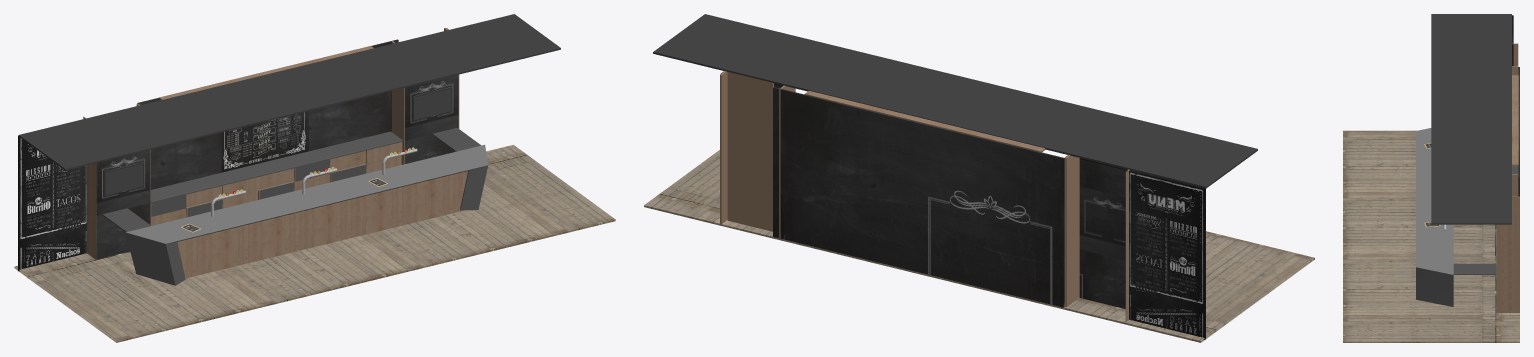
The picture shows the model from 3 angles, left to right: view 1: azimuth 30°, elevation 25°; view 2: azimuth 150°, elevation 25°; view 3: azimuth 270°, elevation 25°; orthographic projection. The views are drawn at different scales.
Visible parts, largest first — view 1: Cube.032, Cube.000, Cube.024, Cube.020, Cube.006, Cube.035, Cube.027, Cube.311, Cube.063, Cube.018, screen.002, screen.001 (+3 smaller); view 2: Cube.006, Cube.000, Cube.027, Cube.032, Cube.031, Cube.311, Cube.022, Cube.045, Cube.025, Cube.313; view 3: Cube.032, Cube.000, Cube.020, Cube.062, Cube.045, Cube.018, Cube.006, Cube.025.
Part boxes in pixels (bbox=[...]): Cube.032: bbox=[14, 145, 615, 342]; Cube.000: bbox=[18, 14, 560, 170]; Cube.024: bbox=[177, 171, 467, 278]; Cube.020: bbox=[125, 144, 488, 285]; Cube.006: bbox=[137, 39, 398, 201]; Cube.035: bbox=[151, 131, 402, 225]; Cube.027: bbox=[18, 135, 86, 271]; Cube.311: bbox=[96, 150, 150, 259]; Cube.063: bbox=[405, 74, 458, 163]; Cube.018: bbox=[102, 128, 481, 231]; screen.002: bbox=[412, 87, 452, 120]; screen.001: bbox=[104, 162, 143, 196]; Cube.006: bbox=[773, 87, 1064, 307]; Cube.000: bbox=[653, 14, 1257, 188]; Cube.027: bbox=[1127, 170, 1205, 339]; Cube.032: bbox=[644, 150, 1314, 342]; Cube.031: bbox=[727, 72, 773, 231]; Cube.311: bbox=[1079, 158, 1127, 308]; Cube.022: bbox=[1065, 155, 1079, 307]; Cube.045: bbox=[804, 90, 1045, 152]; Cube.025: bbox=[720, 71, 727, 225]; Cube.313: bbox=[1125, 169, 1129, 321]; Cube.032: bbox=[1343, 130, 1519, 342]; Cube.000: bbox=[1431, 14, 1511, 224]; Cube.020: bbox=[1416, 128, 1453, 306]; Cube.062: bbox=[1496, 197, 1518, 312]; Cube.045: bbox=[1512, 75, 1518, 166]; Cube.018: bbox=[1453, 263, 1496, 274]; Cube.006: bbox=[1518, 67, 1519, 196]; Cube.025: bbox=[1513, 196, 1519, 312].
Bounding box in the file's own units: 1021 × 267 × 362.
Materials: 24 (11 with a texture image).
